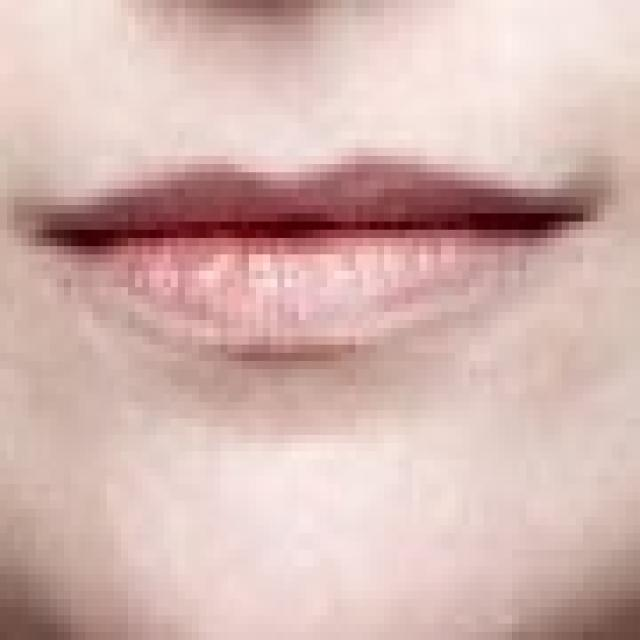closed-mouth: (7, 140, 597, 362)
